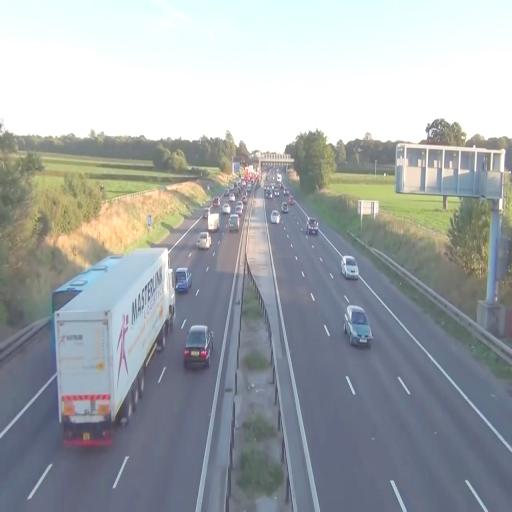vehicle: (53, 248, 174, 445), (183, 324, 212, 371), (343, 305, 373, 348), (174, 267, 191, 294), (341, 255, 359, 280), (197, 230, 211, 250), (228, 214, 239, 232), (272, 210, 280, 225)
